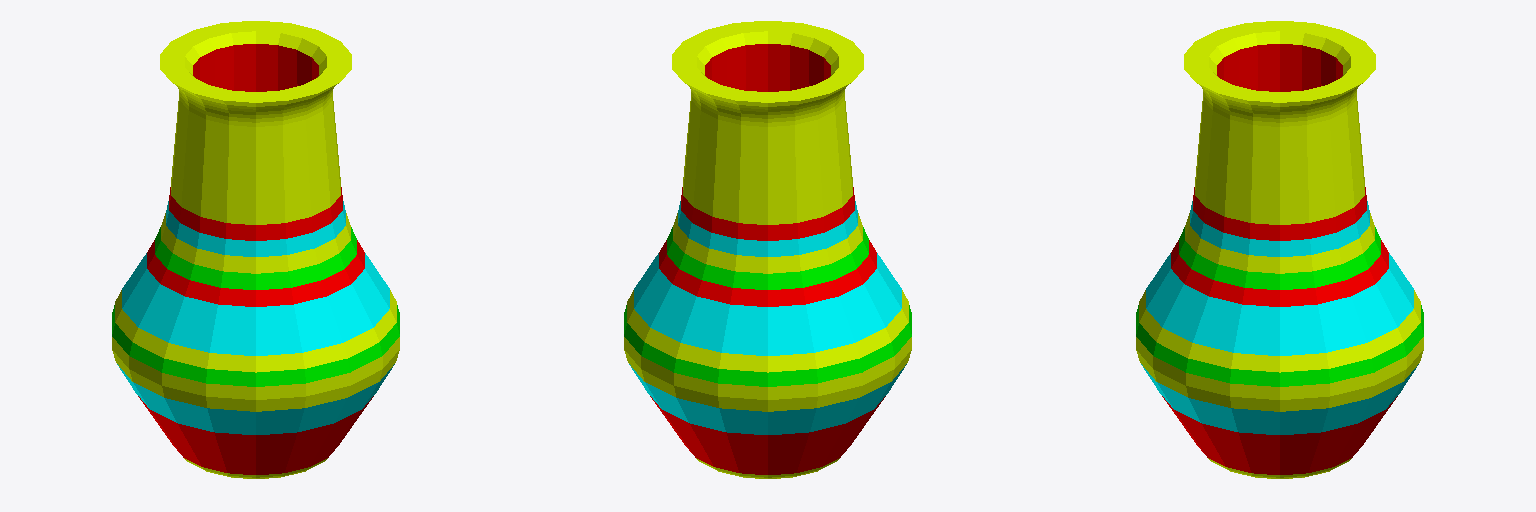
File: Vase.obj
3 renders of one model, left to right at view 1: azimuth 30°, elevation 25°; view 2: azimuth 150°, elevation 25°; view 3: azimuth 270°, elevation 25°, orthographic.
Visible parts, largest first — view 1: Cylinder002; view 2: Cylinder002; view 3: Cylinder002.
Boxes of the visible parts, x1=… form: Cylinder002: x1=112, y1=21, x2=399, y2=478; Cylinder002: x1=624, y1=21, x2=911, y2=478; Cylinder002: x1=1136, y1=21, x2=1423, y2=478.
Bounding box in the file's own units: 229095 × 335653 × 225615.